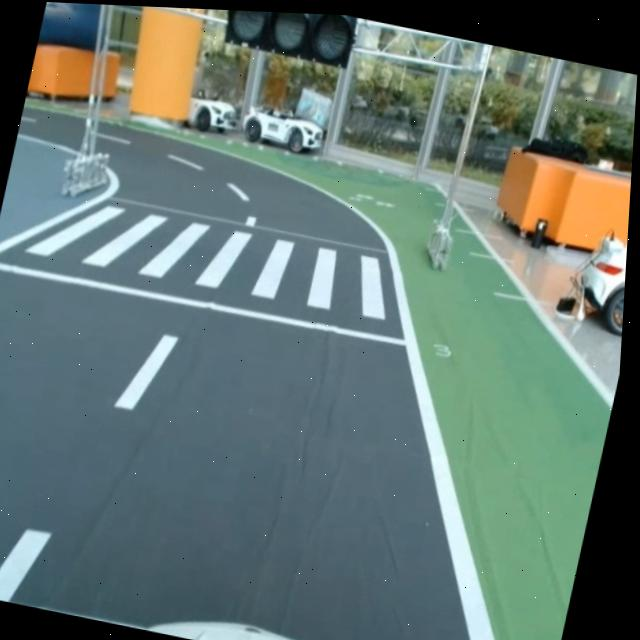traffic-light: (219, 10, 359, 71)
